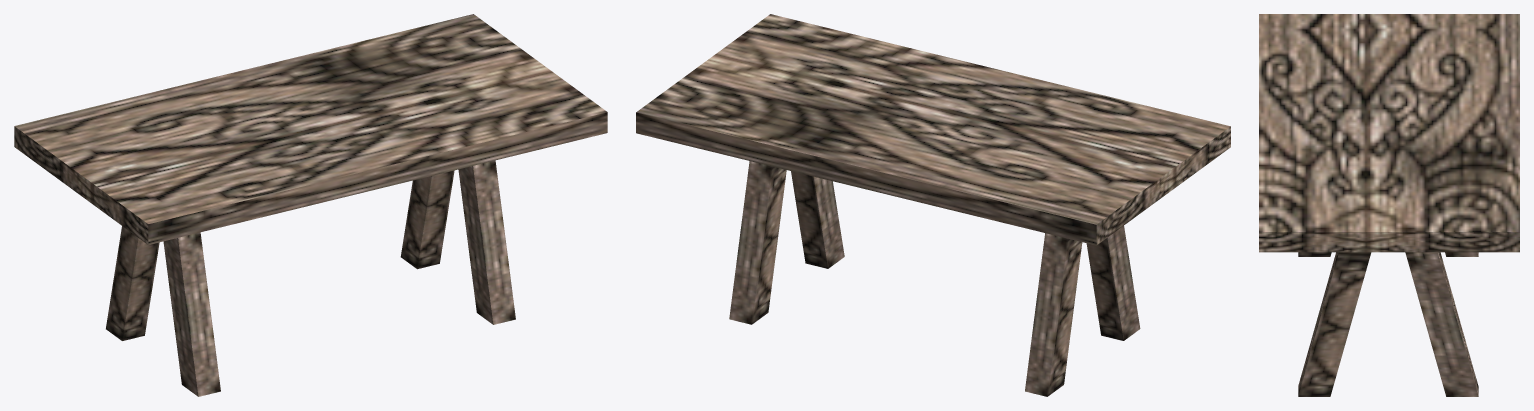
The model's file is Furniture03.glb.
3 renders of one model, left to right at view 1: azimuth 30°, elevation 25°; view 2: azimuth 150°, elevation 25°; view 3: azimuth 270°, elevation 25°, orthographic. The views are drawn at different scales.
Parts seen in each view (by area): view 1: Furniture03; view 2: Furniture03; view 3: Furniture03.
Boxes of the visible parts, x1,y1,x2,y2 form: Furniture03: (14,14,607,396); Furniture03: (636,14,1230,396); Furniture03: (1259,14,1519,396).
Size of the model in its own units: 2.03 by 0.8658 by 1.03.
1 material, 1 textured.
